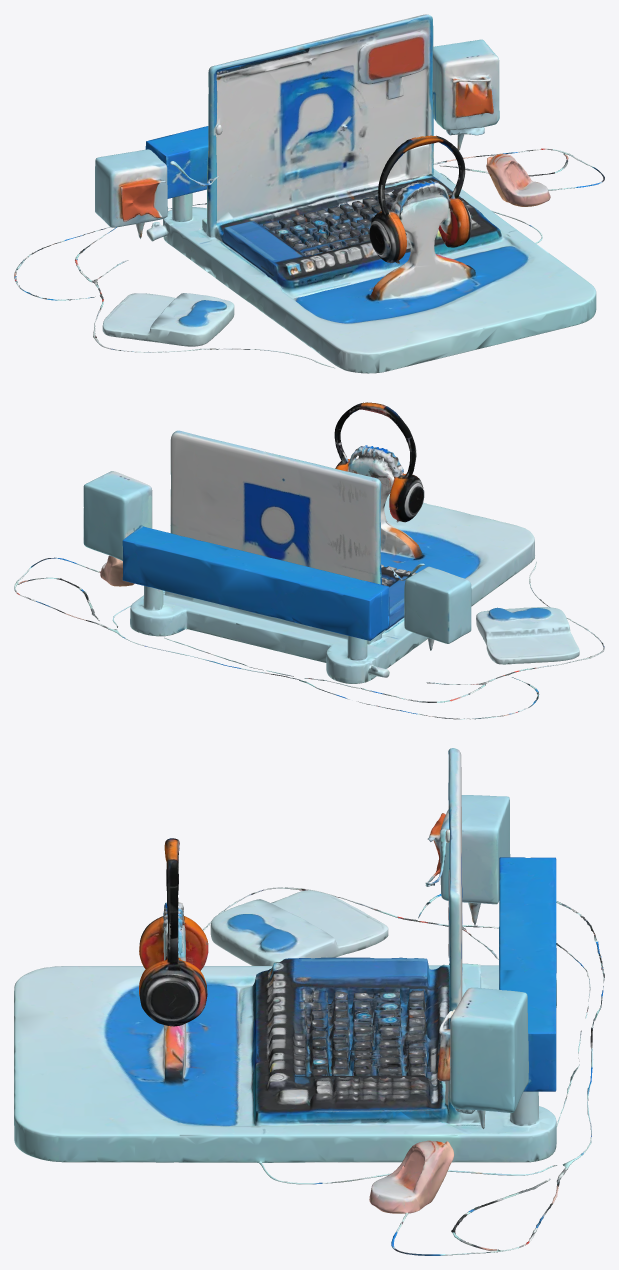
File: workspace_optimized.glb
3 renders of one model, top to bottom at view 1: azimuth 30°, elevation 25°; view 2: azimuth 150°, elevation 25°; view 3: azimuth 270°, elevation 25°, orthographic. The views are drawn at different scales.
Size of the model in its own units: 2 by 0.6677 by 1.35.
Materials: 1 (1 with a texture image).
